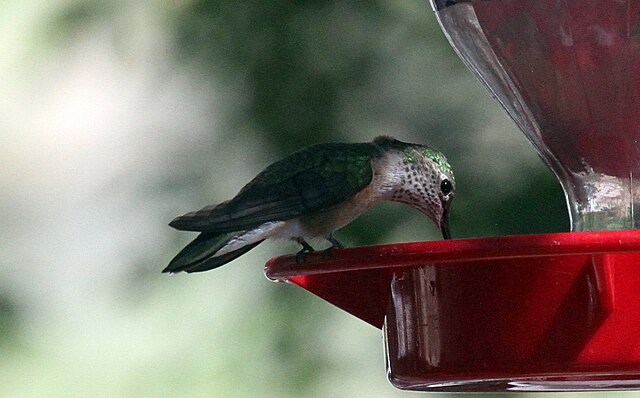selasphorus platycercus: (162, 141, 457, 274)
